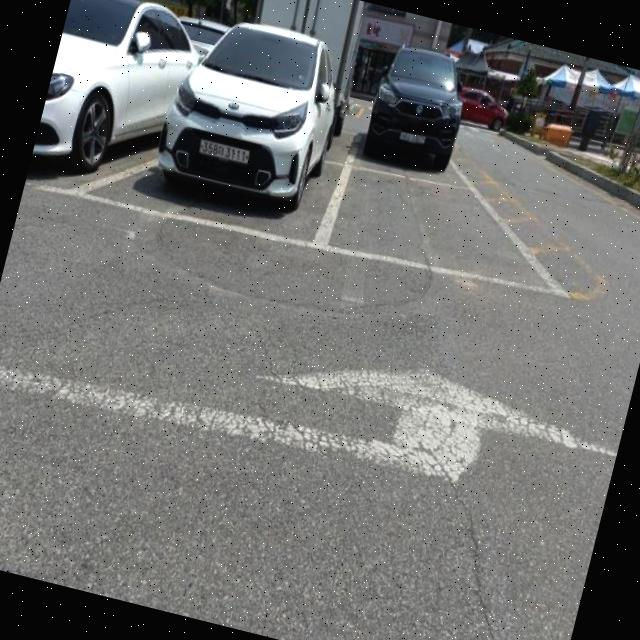empty: (306, 149, 566, 313)
occupied: (151, 0, 352, 227), (27, 0, 207, 202), (360, 32, 476, 176)
